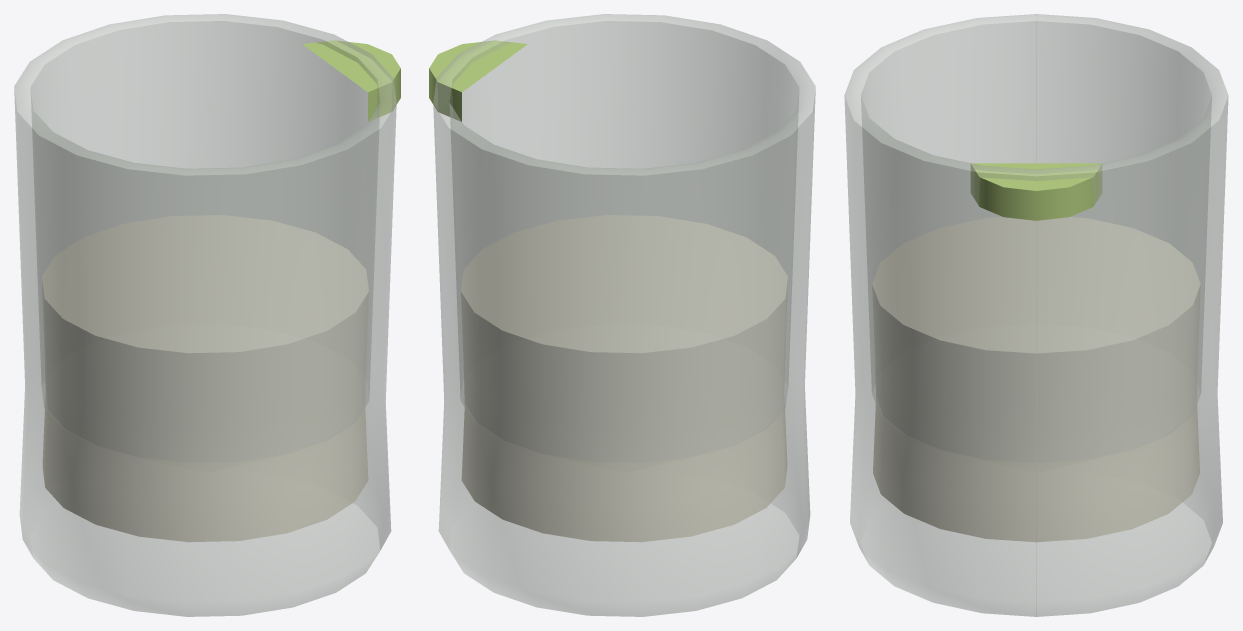
The model's file is drink-4.glb.
3 renders of one model, left to right at view 1: azimuth 30°, elevation 25°; view 2: azimuth 150°, elevation 25°; view 3: azimuth 270°, elevation 25°, orthographic.
Visible parts, largest first — view 1: glass, liquid, garnish; view 2: glass, liquid, garnish; view 3: glass, liquid, garnish.
Part boxes in pixels (bbox=[...]): glass: bbox=[14, 14, 396, 616]; liquid: bbox=[42, 215, 368, 542]; garnish: bbox=[302, 40, 400, 121]; glass: bbox=[433, 14, 815, 616]; liquid: bbox=[461, 215, 787, 542]; garnish: bbox=[429, 40, 527, 121]; glass: bbox=[844, 14, 1228, 616]; liquid: bbox=[872, 217, 1200, 542]; garnish: bbox=[970, 163, 1102, 220].
Size of the model in its own units: 0.0742 by 0.0904 by 0.07.
